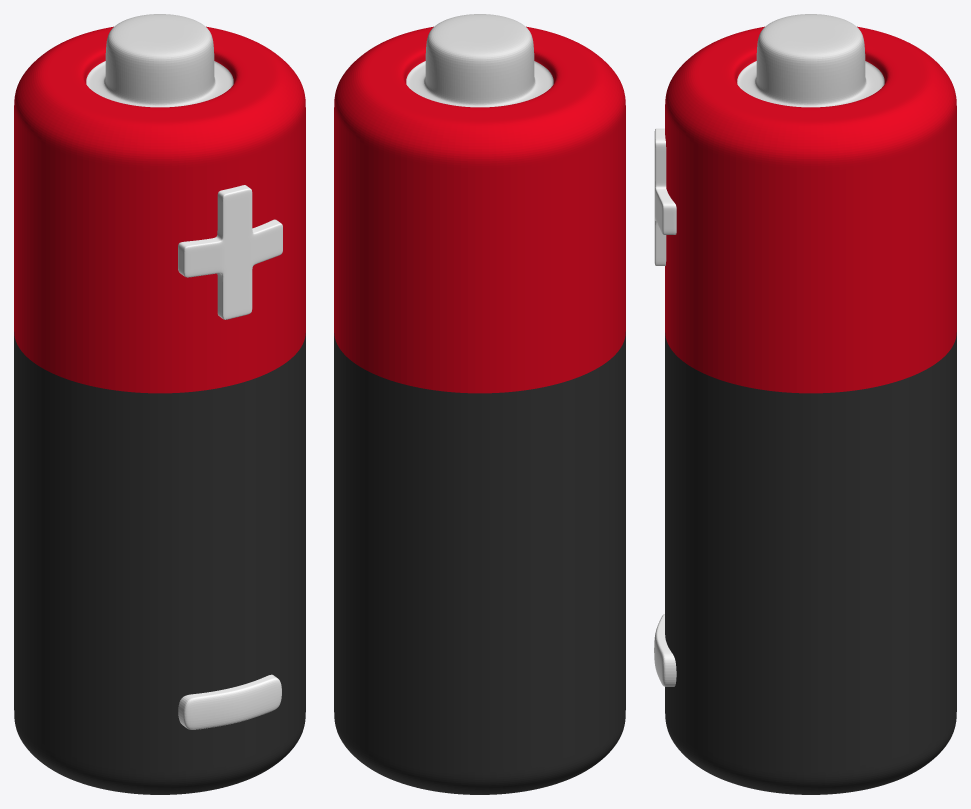
The picture shows the model from 3 angles, left to right: view 1: azimuth 30°, elevation 25°; view 2: azimuth 150°, elevation 25°; view 3: azimuth 270°, elevation 25°; orthographic projection.
Visible parts, largest first — view 1: Circle_0, Circle.002_2, Circle.001_1; view 2: Circle_0; view 3: Circle_0, Circle.002_2, Circle.001_1.
Boxes of the visible parts, bbox=[...] form: Circle_0: bbox=[14, 14, 305, 794]; Circle.002_2: bbox=[178, 185, 282, 319]; Circle.001_1: bbox=[178, 674, 281, 729]; Circle_0: bbox=[334, 14, 625, 794]; Circle_0: bbox=[665, 14, 956, 794]; Circle.002_2: bbox=[654, 128, 676, 265]; Circle.001_1: bbox=[654, 614, 676, 686].
Size of the model in its own units: 1.95 by 5.25 by 2.02.
